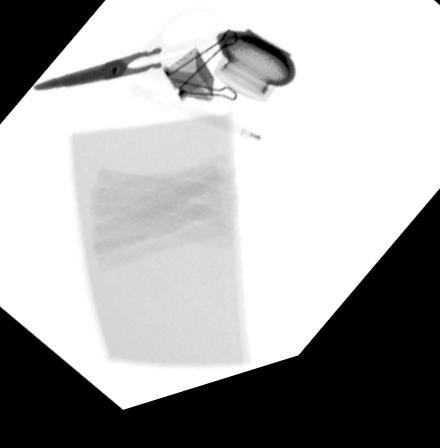Scissors: (32, 4, 231, 111)
